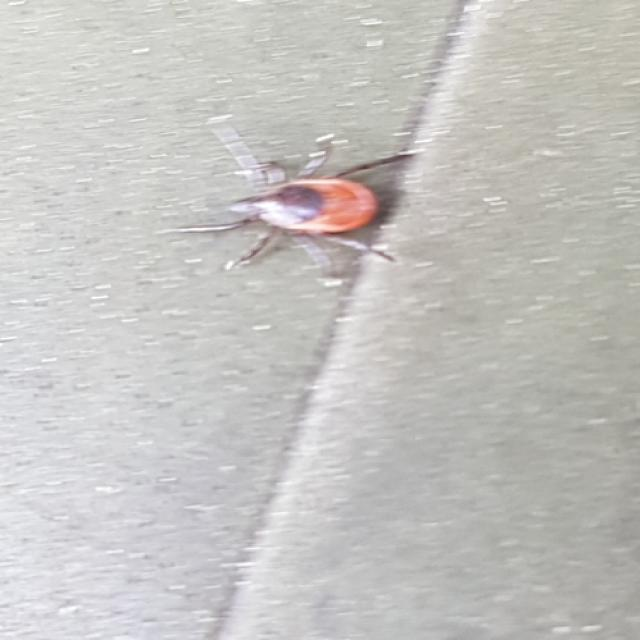Ixodes Ricinus-F: (176, 128, 425, 279)
